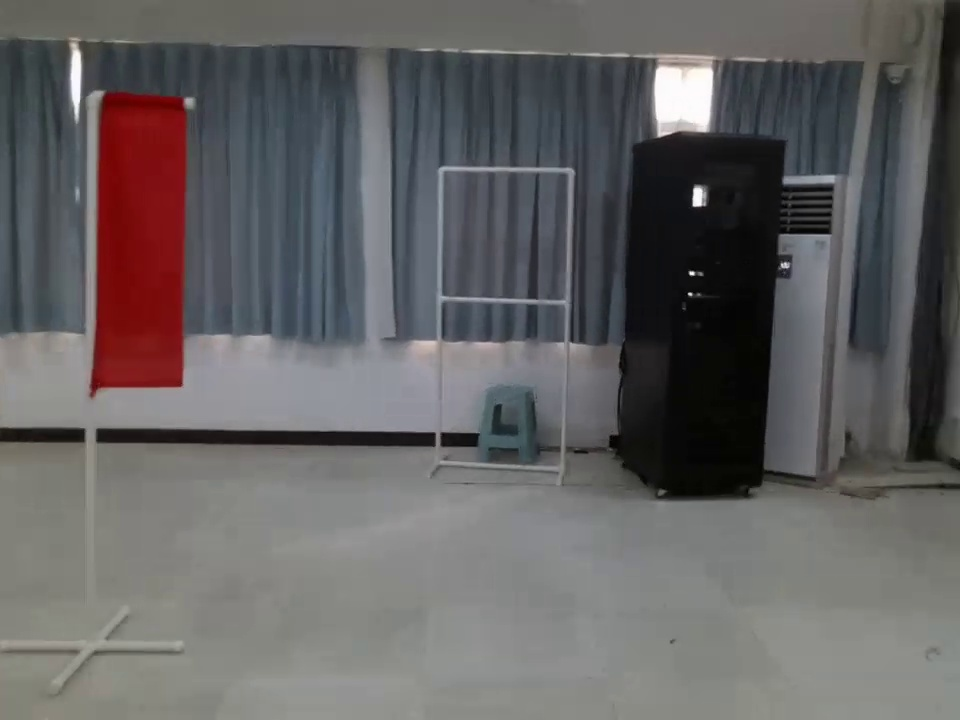qi: (78, 87, 200, 442)
